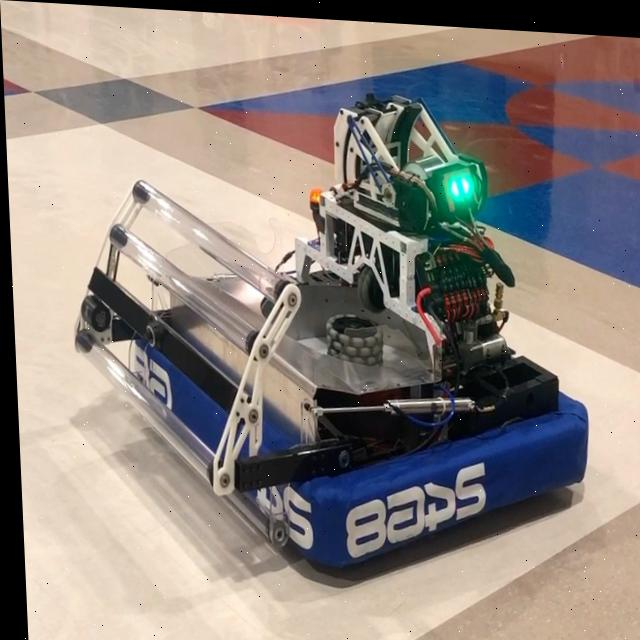robot: (56, 68, 596, 596)
